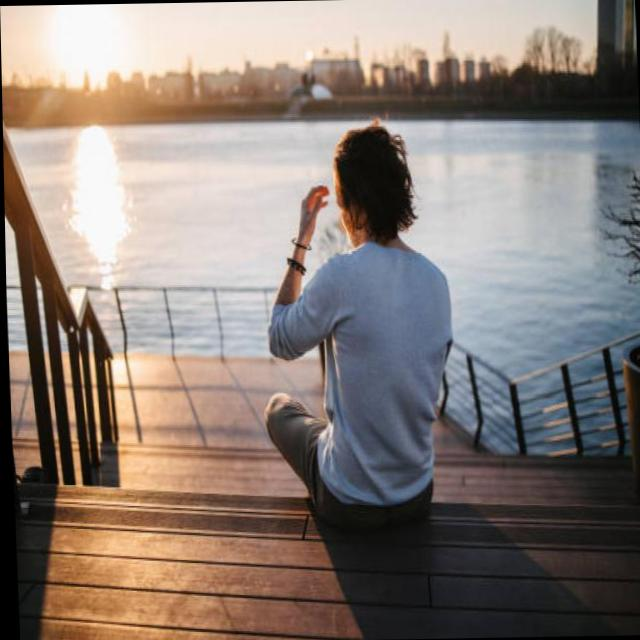no helmet: (309, 86, 447, 274)
